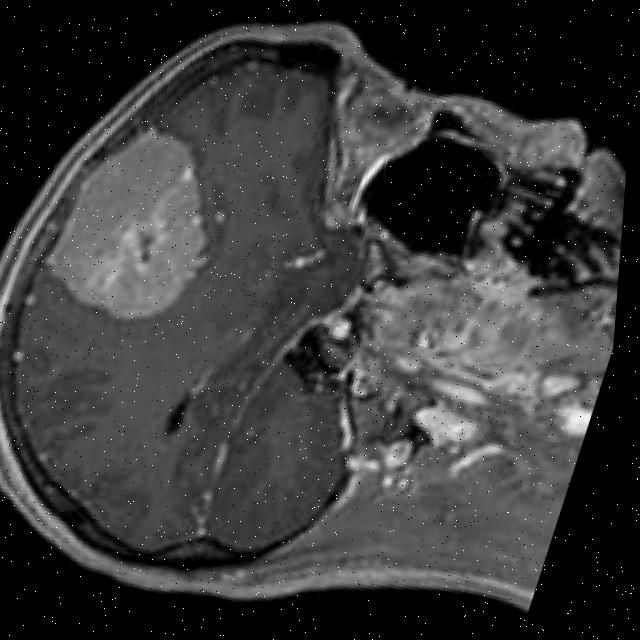Meningioma: (27, 106, 245, 336)
